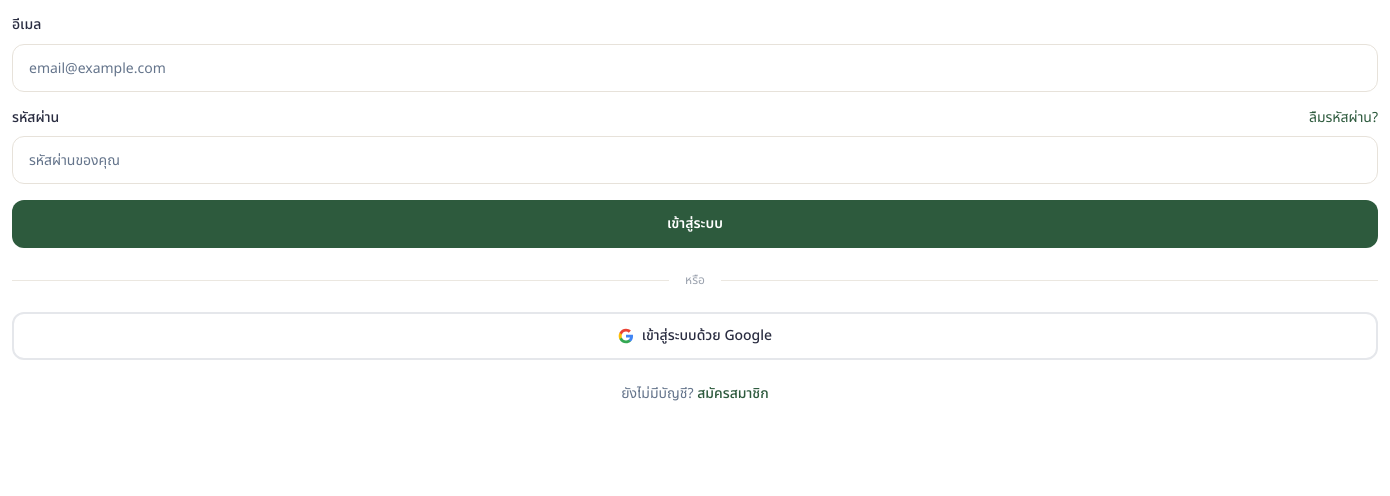
Scenario: LoginForm › Authentication Failure › shows error message for invalid credentials
Type "test@example.com" into the field labelled "อีเมล" at (695, 68), box [12, 44, 1378, 92]
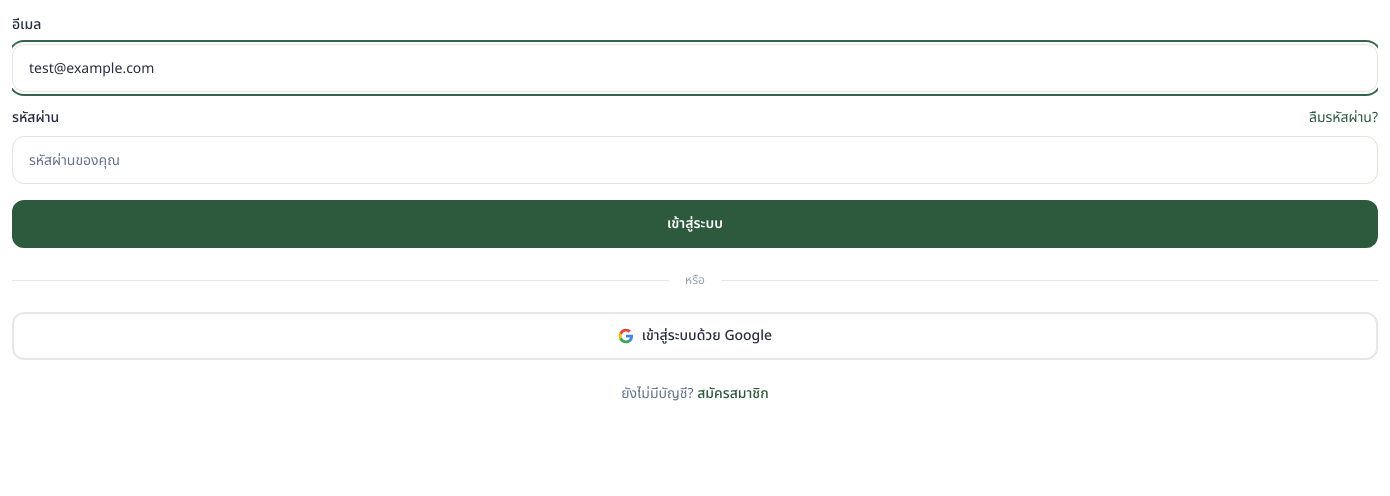
Type "wrongpassword" into the password field labelled "รหัสผ่าน" at (695, 160), box [12, 136, 1378, 184]
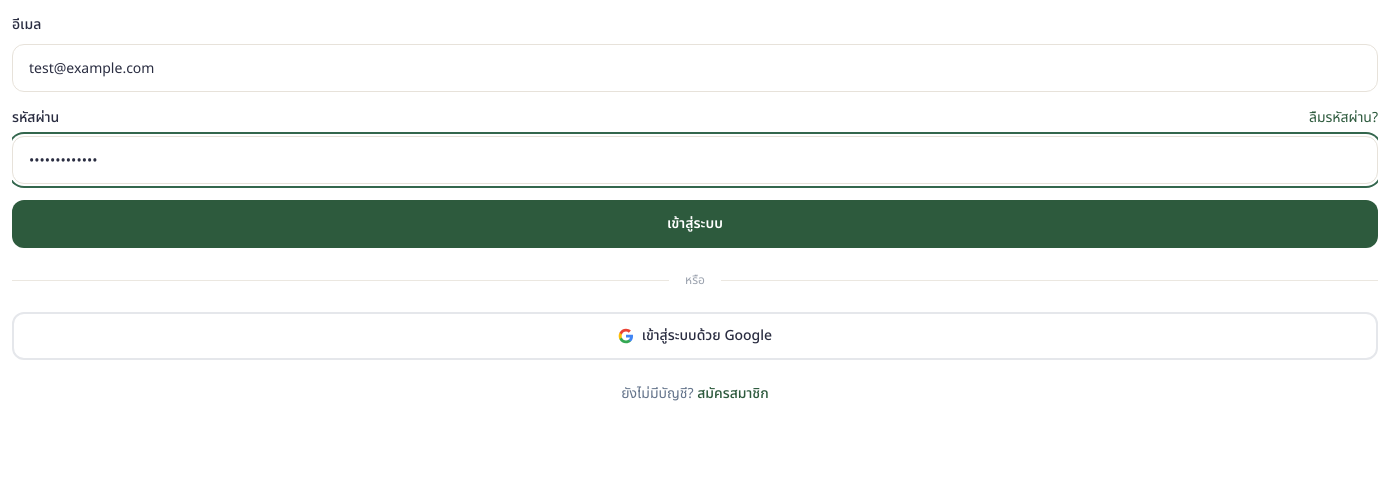
Click the button "เข้าสู่ระบบ" at (695, 224), box [12, 200, 1378, 248]
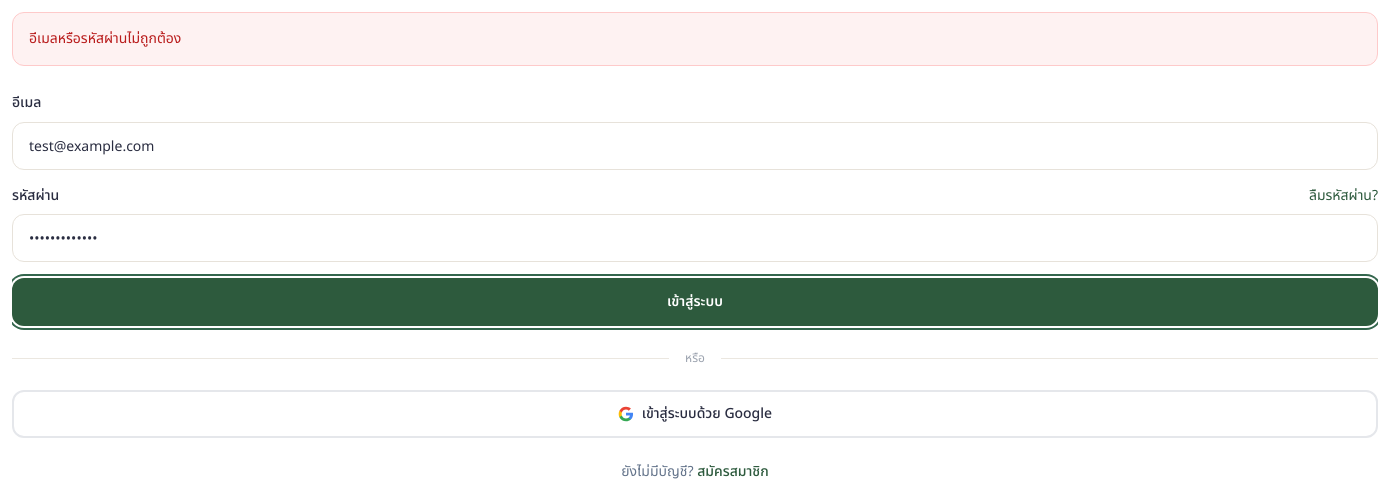
Check: the text "อีเมลหรือรหัสผ่านไม่ถูกต้อง" is shown, box [12, 12, 1378, 66]
